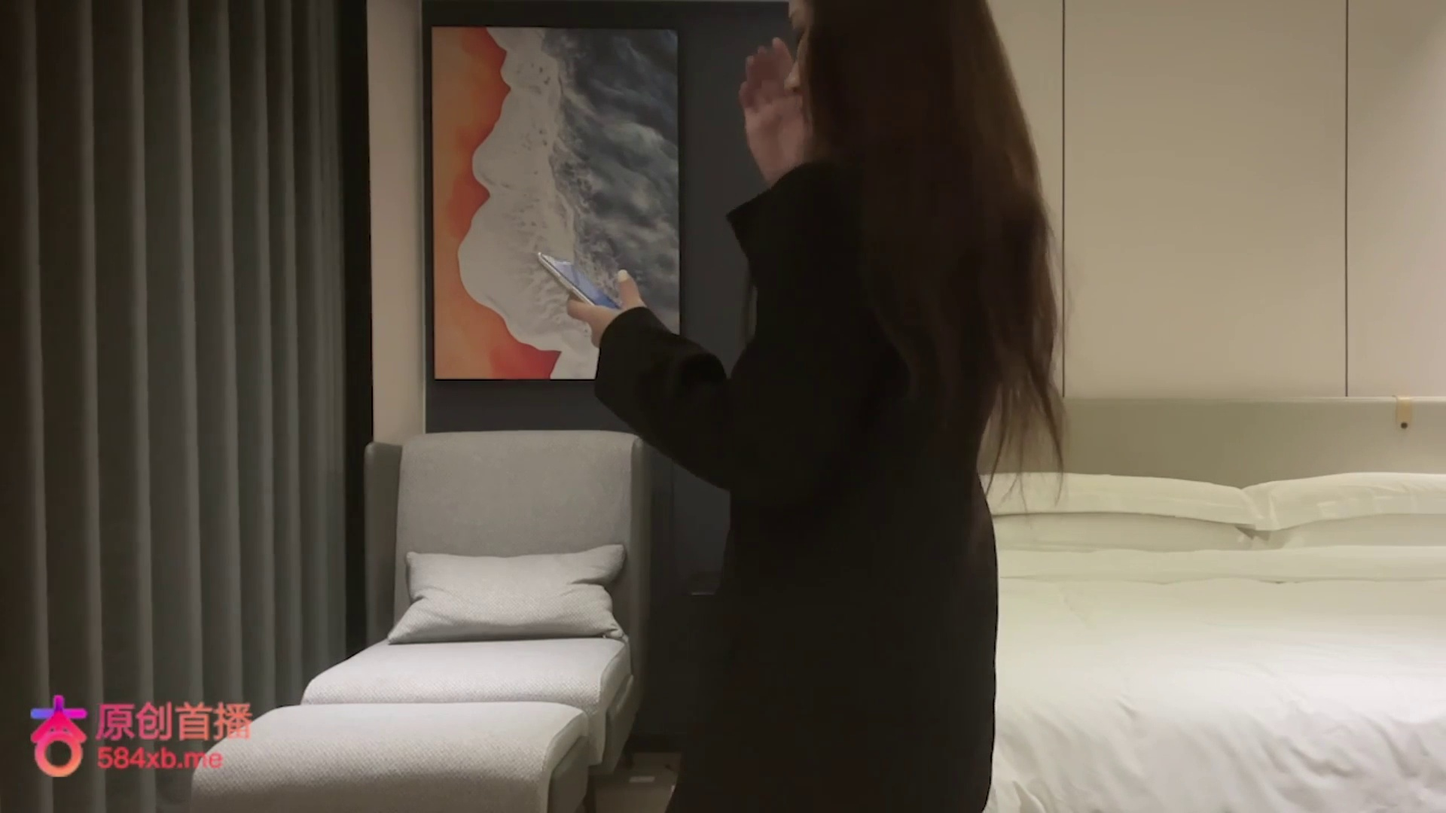stand: (563, 1, 1065, 813)
